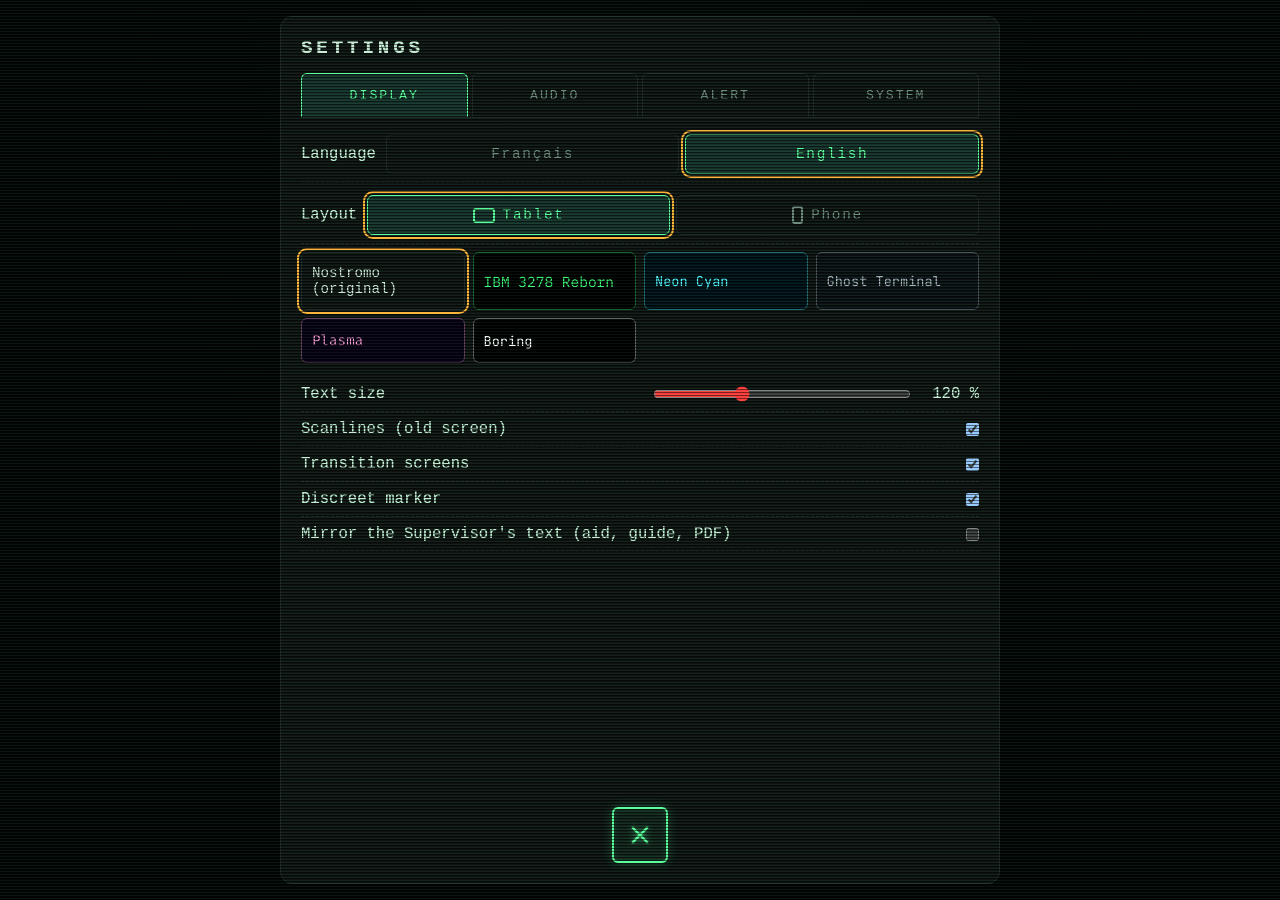
Test: en anglais : formats, fonds sonores, boutons et question d'abandon traduits
This screenshot has width=1280, height=900.
Click the tab with id "tab-alert" at {"x": 725, "y": 95}, box [642, 73, 808, 117]
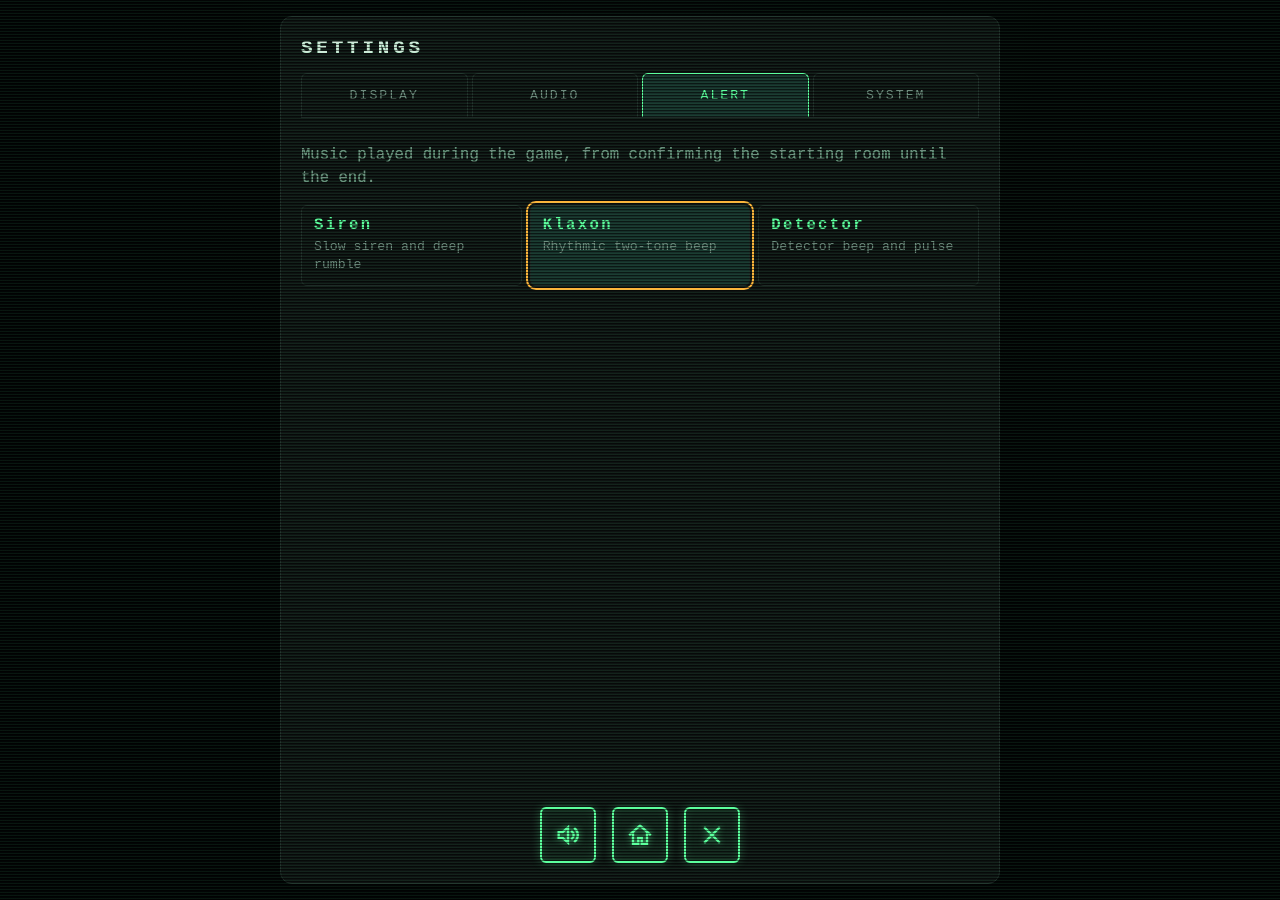
Click the button with id "homeReturnBtn" at {"x": 640, "y": 835}, box [612, 807, 668, 863]
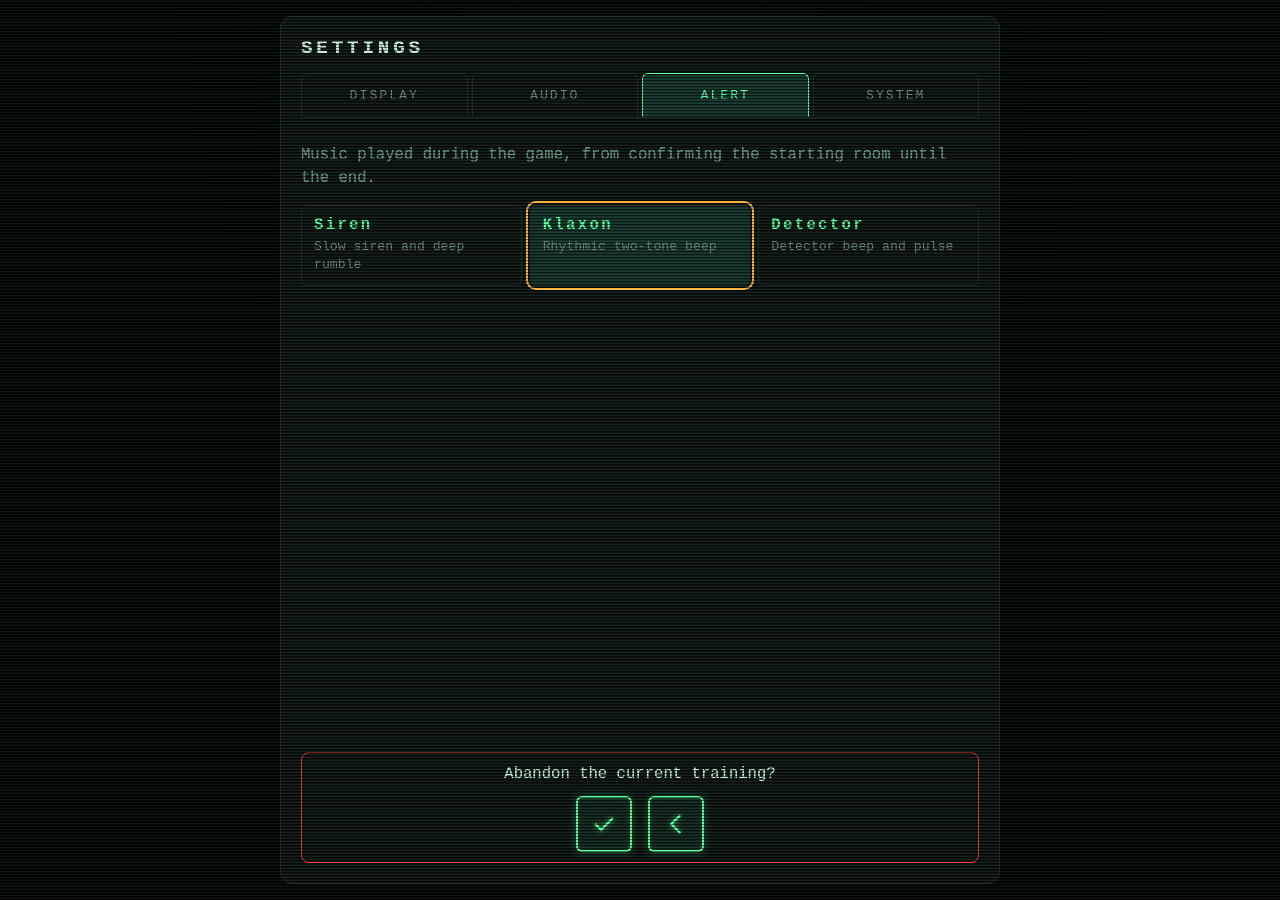
expect the text with id "homeReturnQ" reads "Abandon the current training?": met, box [504, 765, 776, 783]
